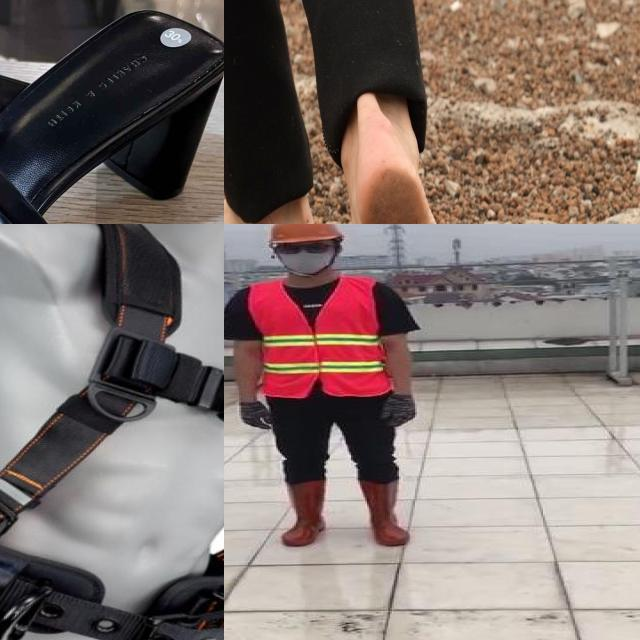Barefoots: (355, 137, 491, 224)
Harness: (0, 224, 224, 640)
Sandals: (0, 0, 224, 224)
boots: (354, 478, 416, 547), (278, 479, 328, 546)
face_mask: (274, 240, 332, 274)
glasses: (273, 241, 335, 257)
hand_glove: (237, 403, 278, 430), (383, 396, 417, 427)
head_helmet: (264, 224, 341, 244)
person: (224, 224, 424, 559)
vest: (248, 279, 388, 398)
